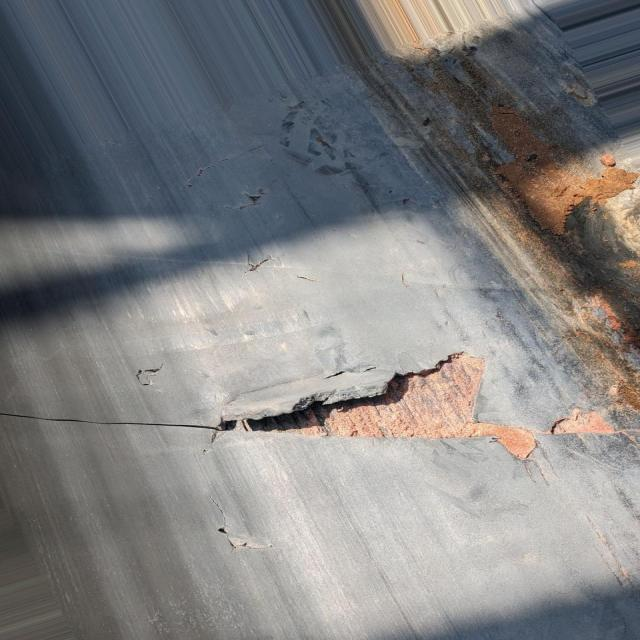Tear: (0, 349, 626, 460), (186, 480, 281, 562), (223, 183, 276, 211), (131, 360, 173, 392), (242, 253, 281, 276)
